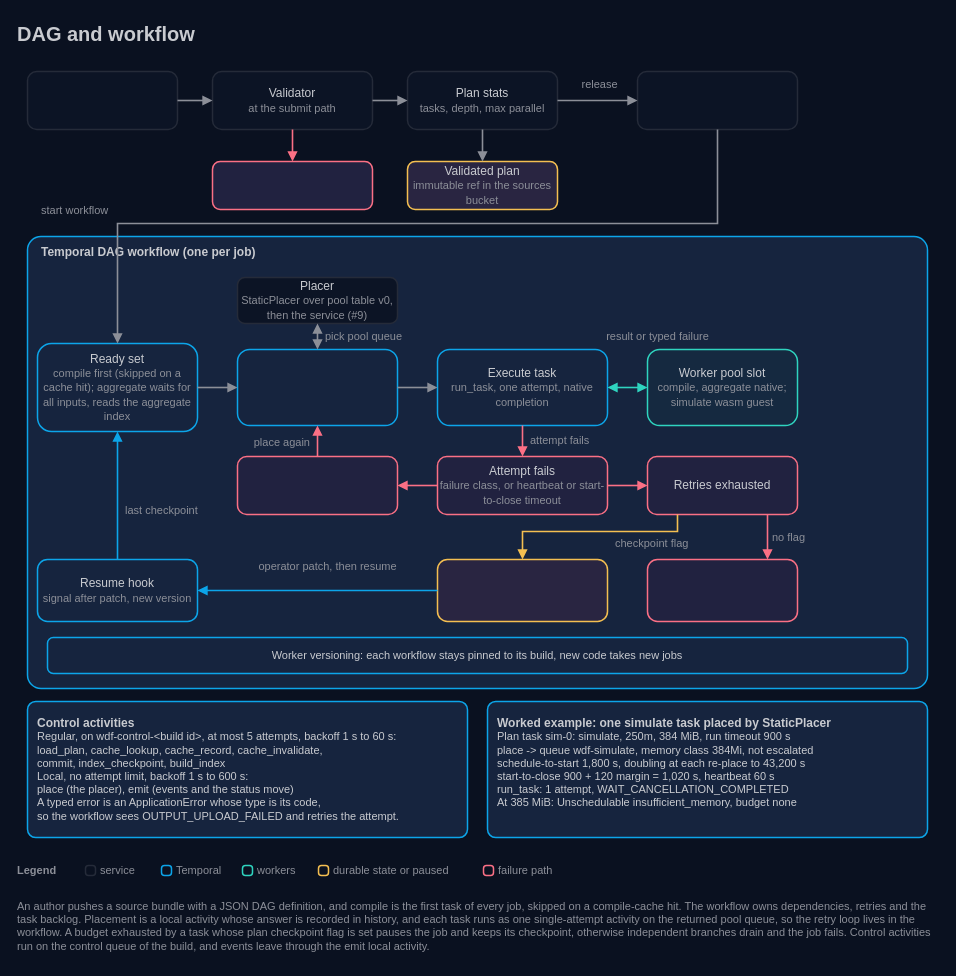
Image size: 956x976. Some labels were removed from this diagram. The shapes that lost their labels are listed below. From the top down, each one's centre as x and y in pixels, then its label:
pixel 102 100: Author push source bundle and JSON DAG definition
pixel 717 100: Layer 1 admission releases by plan stats (#8)
pixel 292 185: Rejected at submit schema, cycle, limits
pixel 317 387: Place task local activity, answer kept in history
pixel 317 485: Retry loop in the workflow guest and infra budgets of the failure class table
pixel 522 590: Pause budget exhausted on a checkpoint task, or operator pause
pixel 722 590: Drain, then fail independent branches finish, partial results kept
